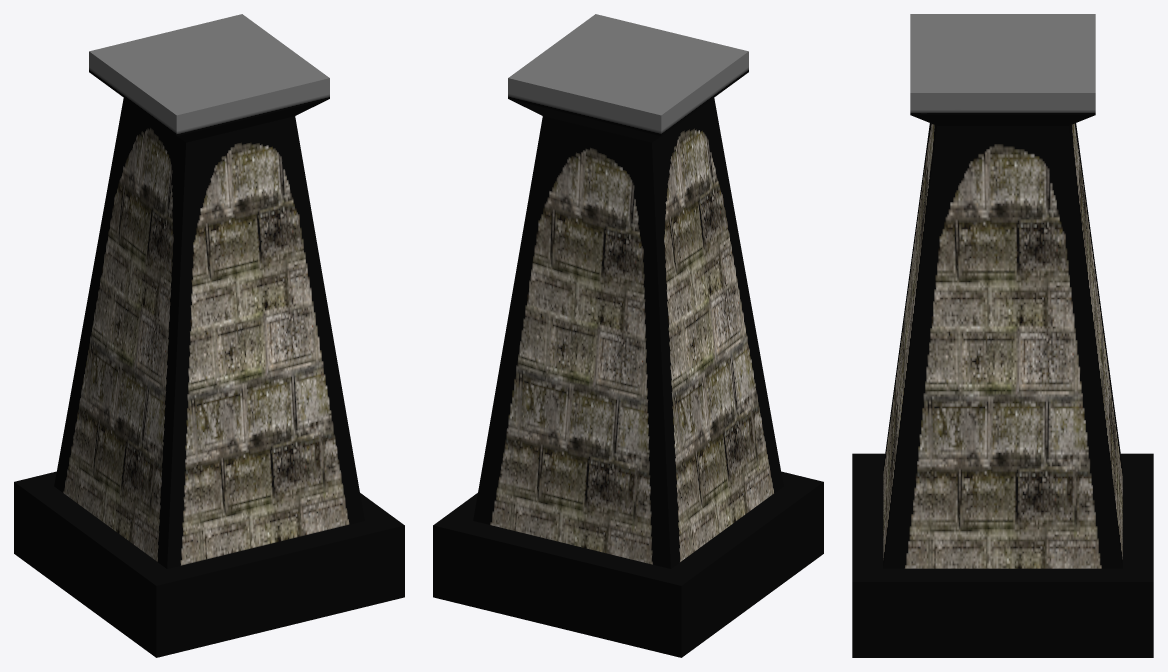
File: column.fbx
The picture shows the model from 3 angles, left to right: view 1: azimuth 30°, elevation 25°; view 2: azimuth 150°, elevation 25°; view 3: azimuth 270°, elevation 25°; orthographic projection. The views are drawn at different scales.
Parts seen in each view (by area): view 1: Cube; view 2: Cube; view 3: Cube.
Boxes of the visible parts, x1,y1,x2,y2 form: Cube: (14,14,404,657); Cube: (433,14,823,657); Cube: (852,14,1153,657).
Size of the model in its own units: 147 by 289 by 146.
1 material, 1 textured.
